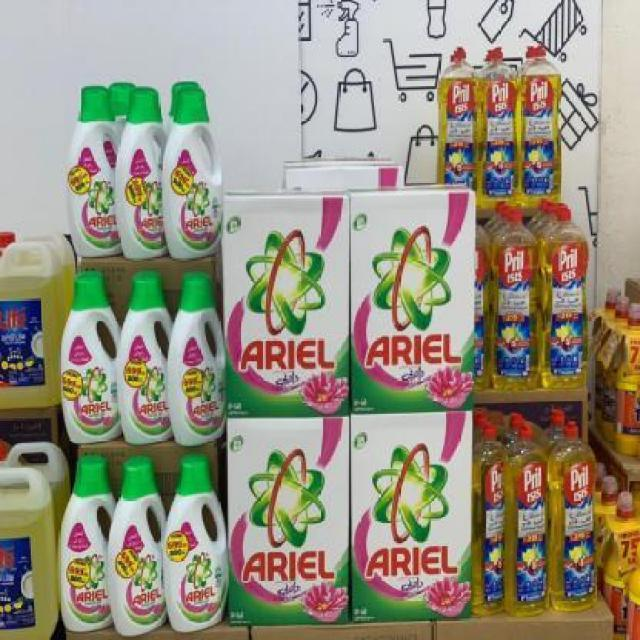Detergent: (220, 193, 349, 419), (347, 188, 476, 414), (351, 410, 471, 622), (227, 425, 350, 623), (52, 267, 118, 443), (108, 451, 170, 637), (166, 452, 228, 632), (161, 82, 221, 260), (169, 268, 227, 446), (58, 448, 114, 630), (119, 265, 173, 447), (73, 77, 121, 257), (119, 79, 167, 259)
